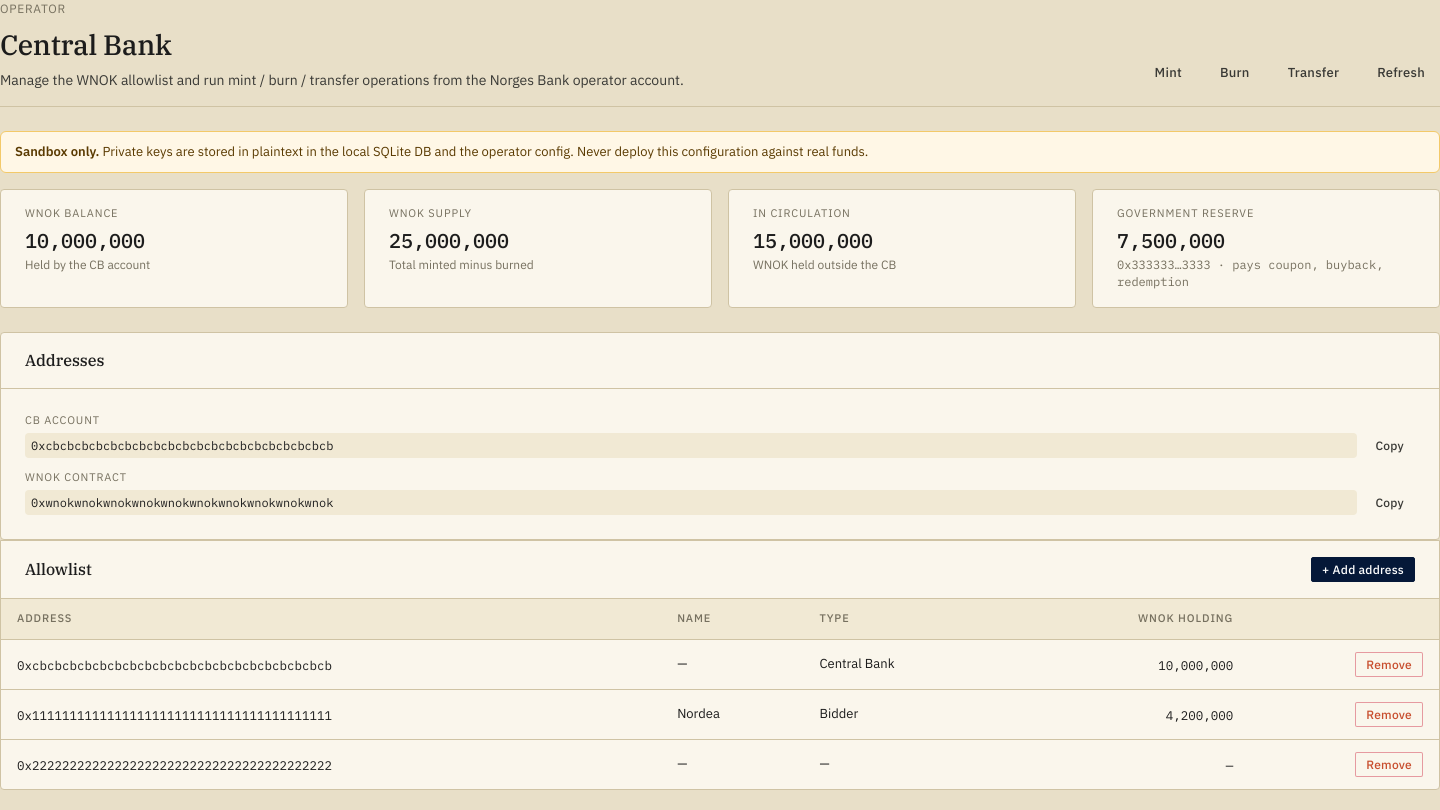
Test: CentralBankPage › opens the Mint, Burn, and Transfer modals
What coordinates should you click on to do the following:
click the button "Mint"
I would click on:
 (1168, 73)
Its box is left=1140, top=55, right=1197, bottom=90.
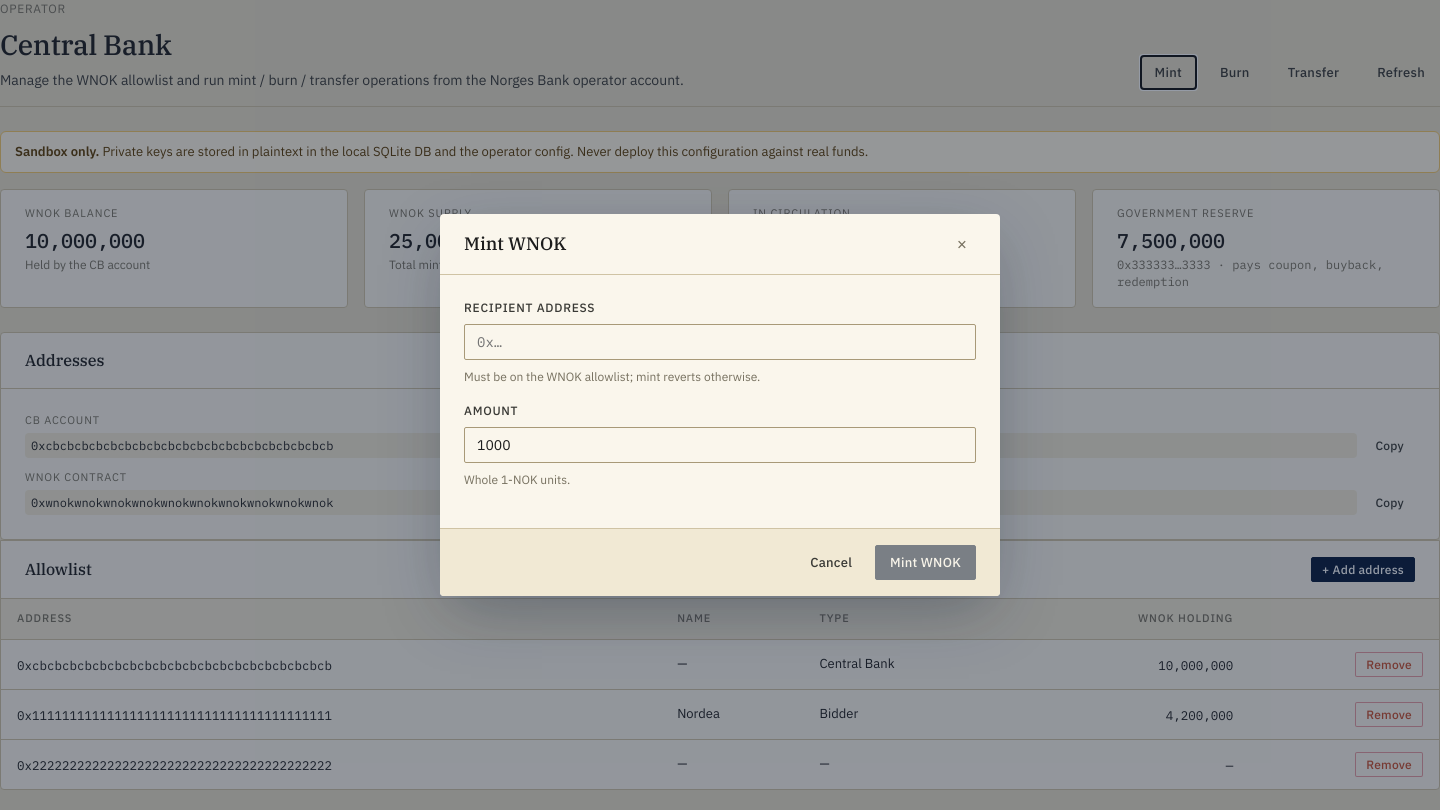
Check: the heading "Mint WNOK" is shown, box left=464, top=231, right=566, bottom=257
What coordinates should you click on to do the following:
click the button "Cancel"
I would click on:
 (831, 563)
Its box is left=795, top=545, right=867, bottom=580.
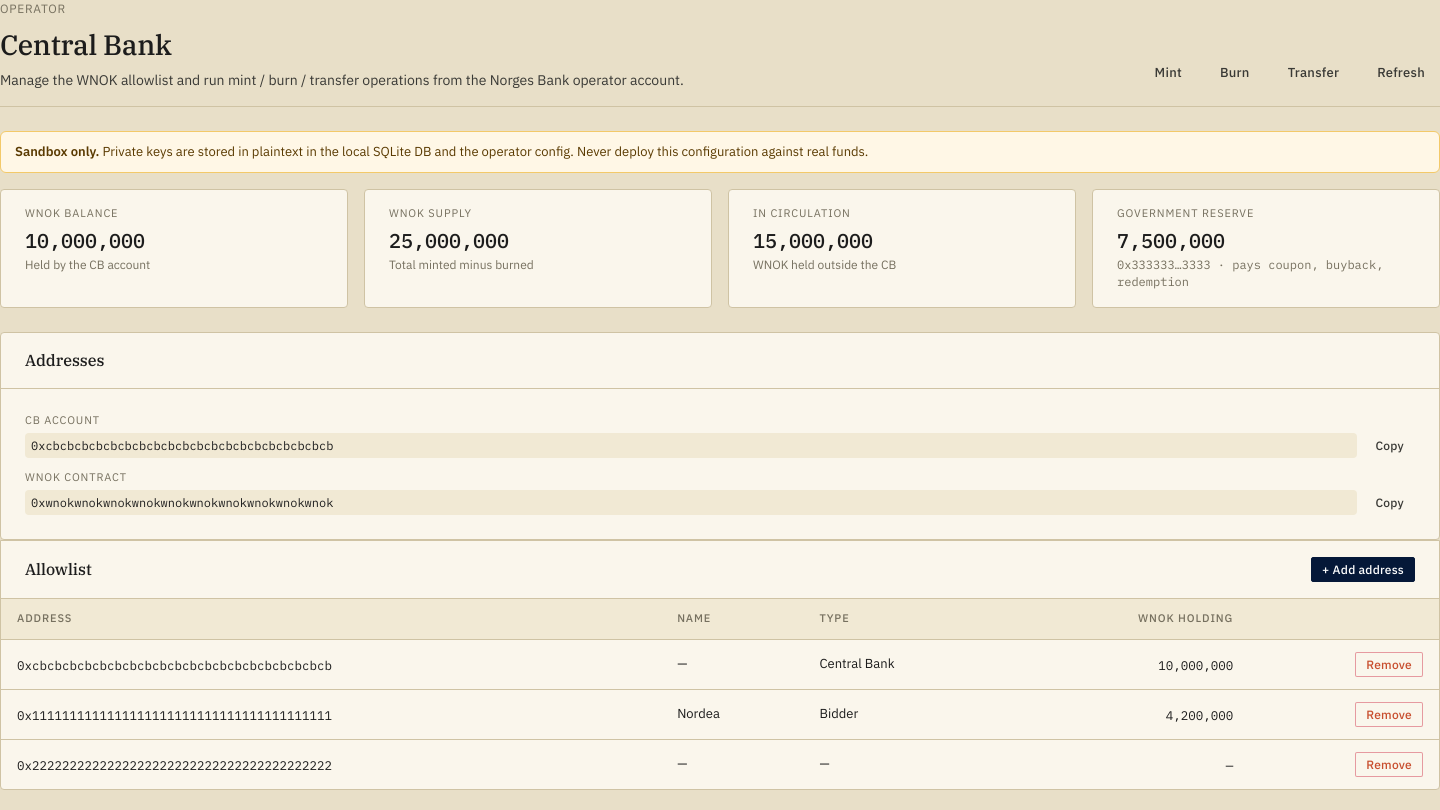
What coordinates should you click on to do the following:
click the button "Burn"
I would click on:
 (1235, 73)
Its box is left=1205, top=55, right=1265, bottom=90.
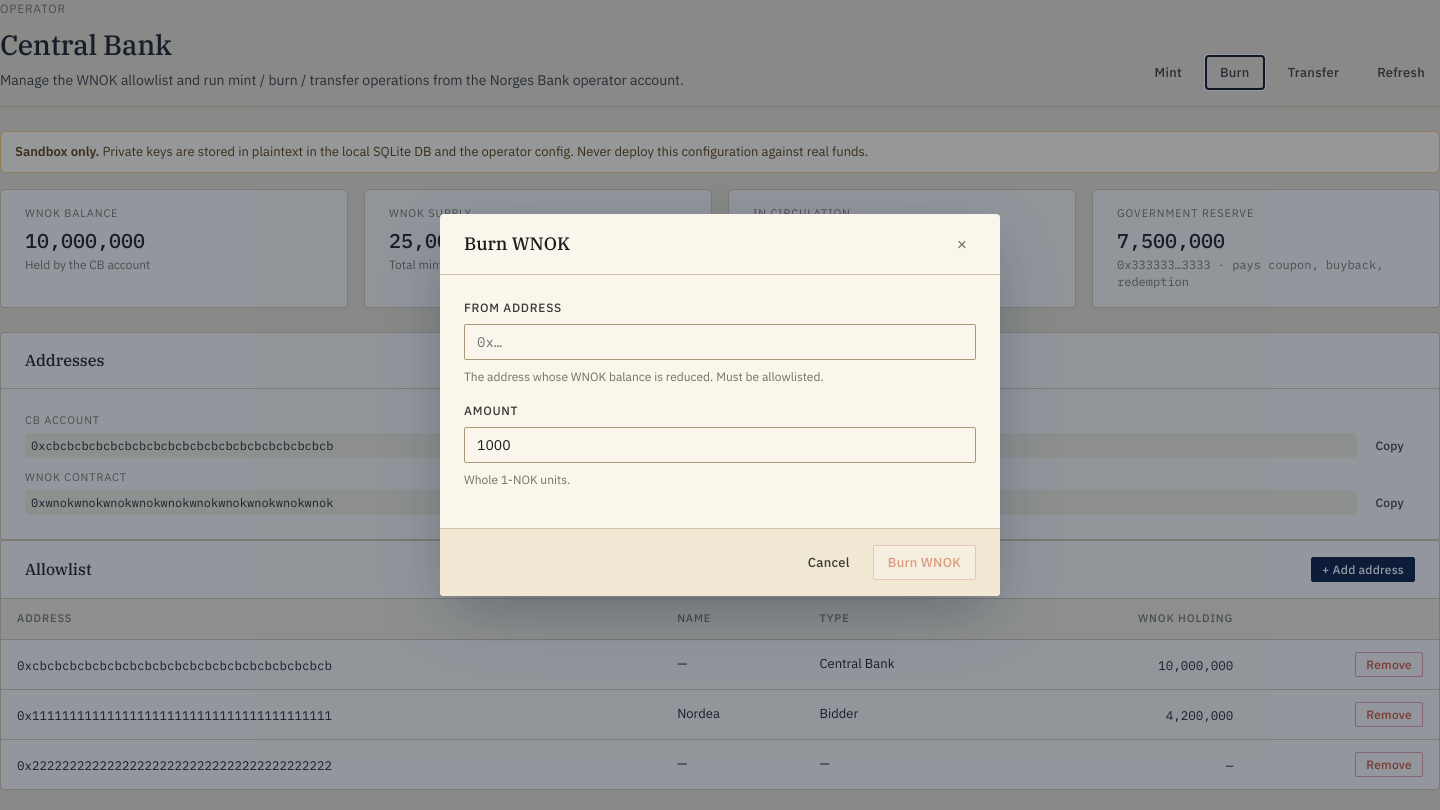
Check: the heading "Burn WNOK" is shown, box left=464, top=231, right=570, bottom=257
What coordinates should you click on to do the following:
click the button "Cancel"
I would click on:
 (829, 563)
Its box is left=793, top=545, right=865, bottom=580.
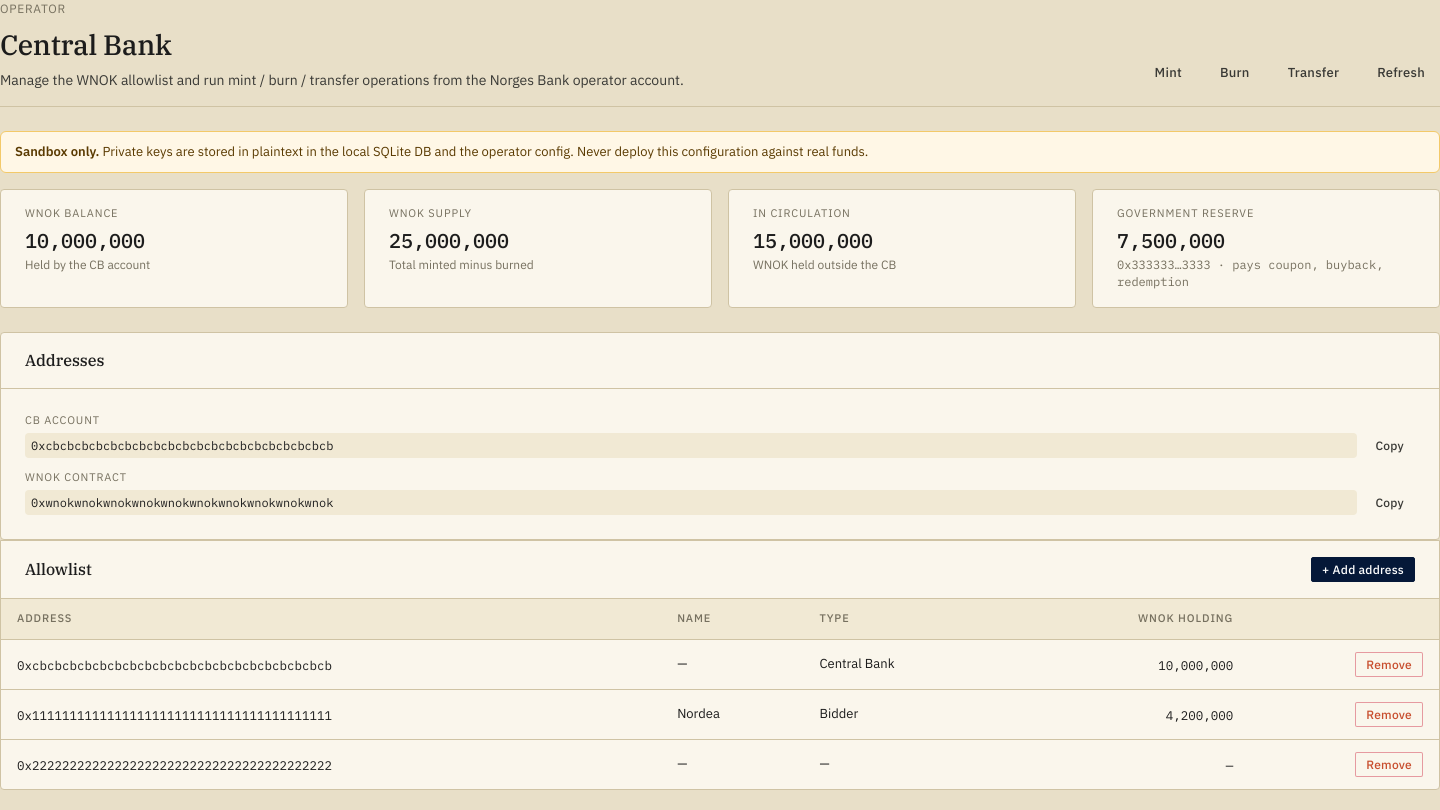
What coordinates should you click on to do the following:
click the button "Transfer"
I would click on:
 (1313, 73)
Its box is left=1273, top=55, right=1354, bottom=90.
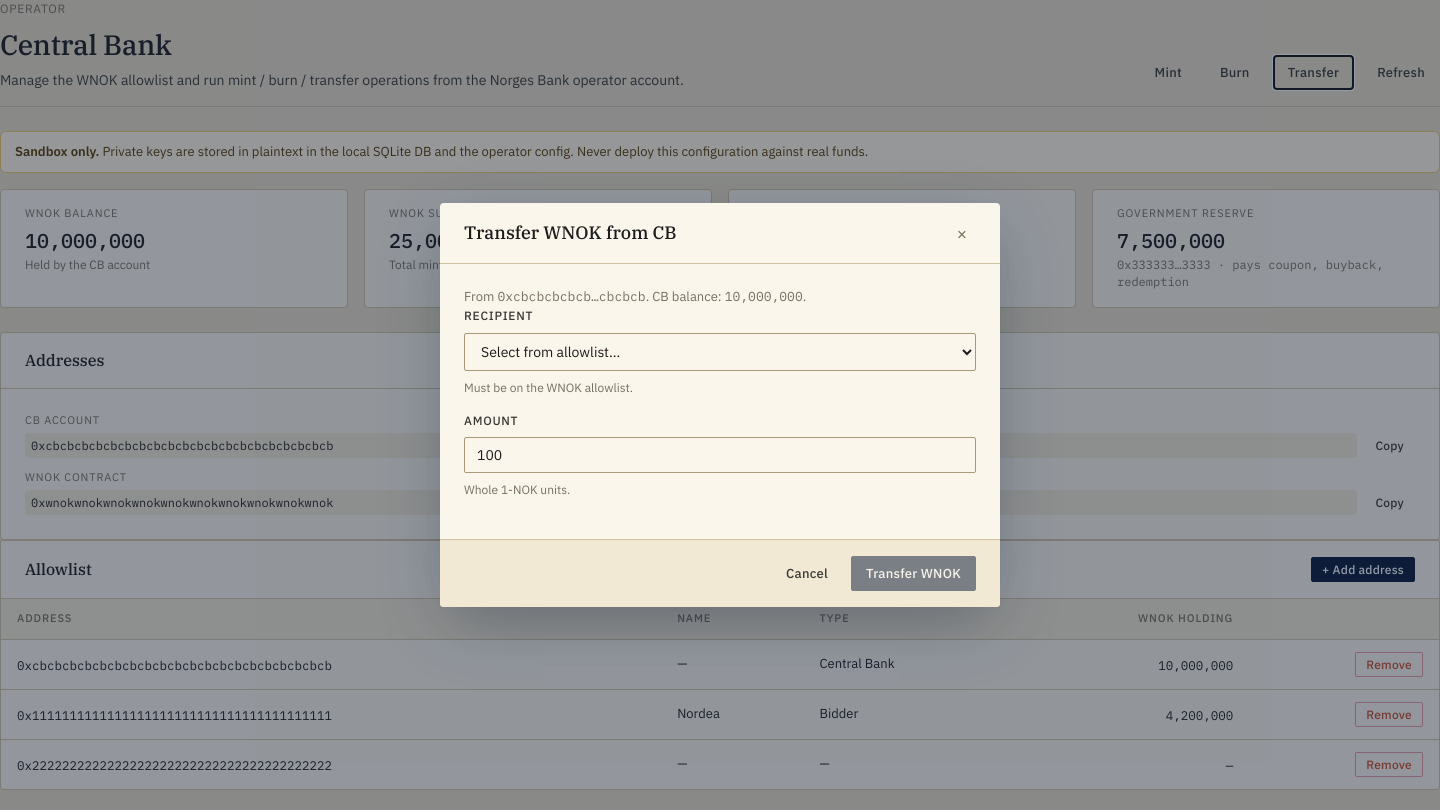
Check: the heading "Transfer WNOK from CB" is shown, box left=464, top=220, right=677, bottom=246
